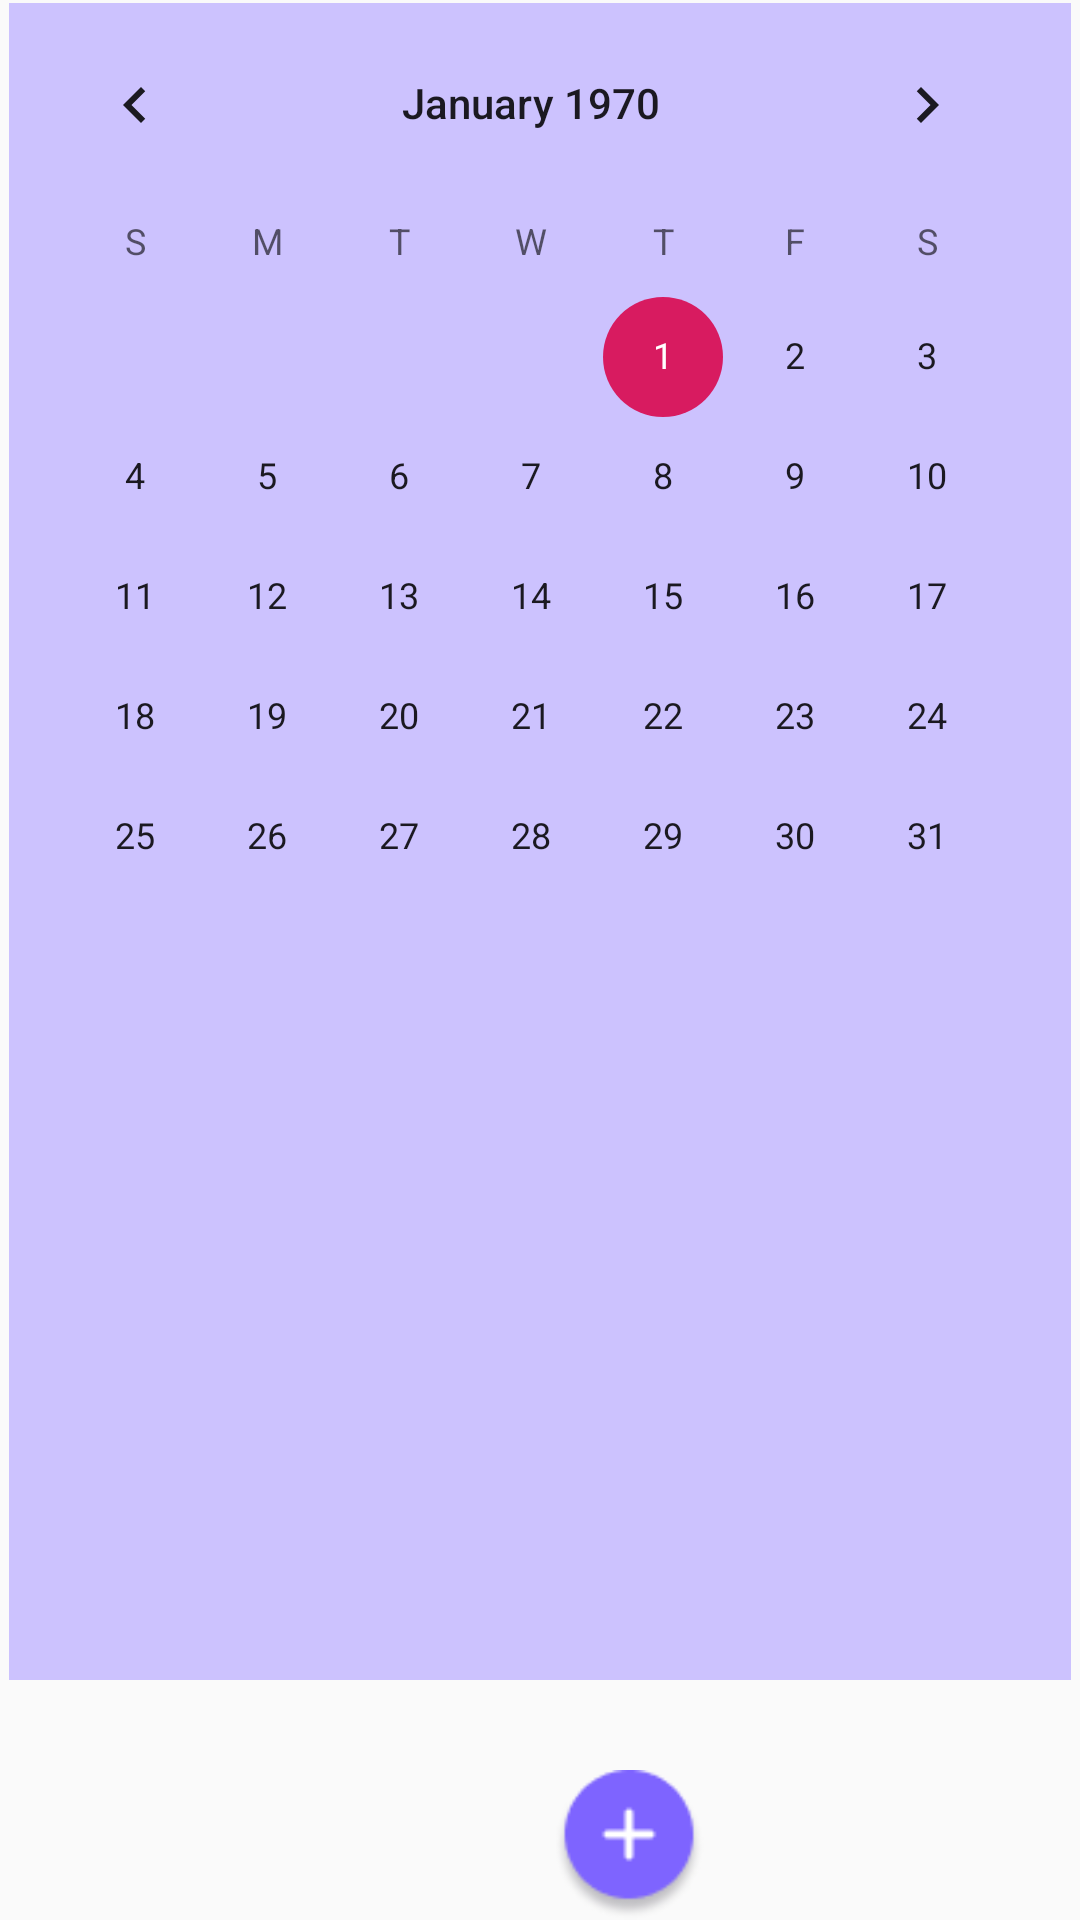

Named icons in this screenshot (1080w x 1920h) and their bounding boxes, (x1, y1, x2, y2):
add: (563, 1770, 695, 1910)
